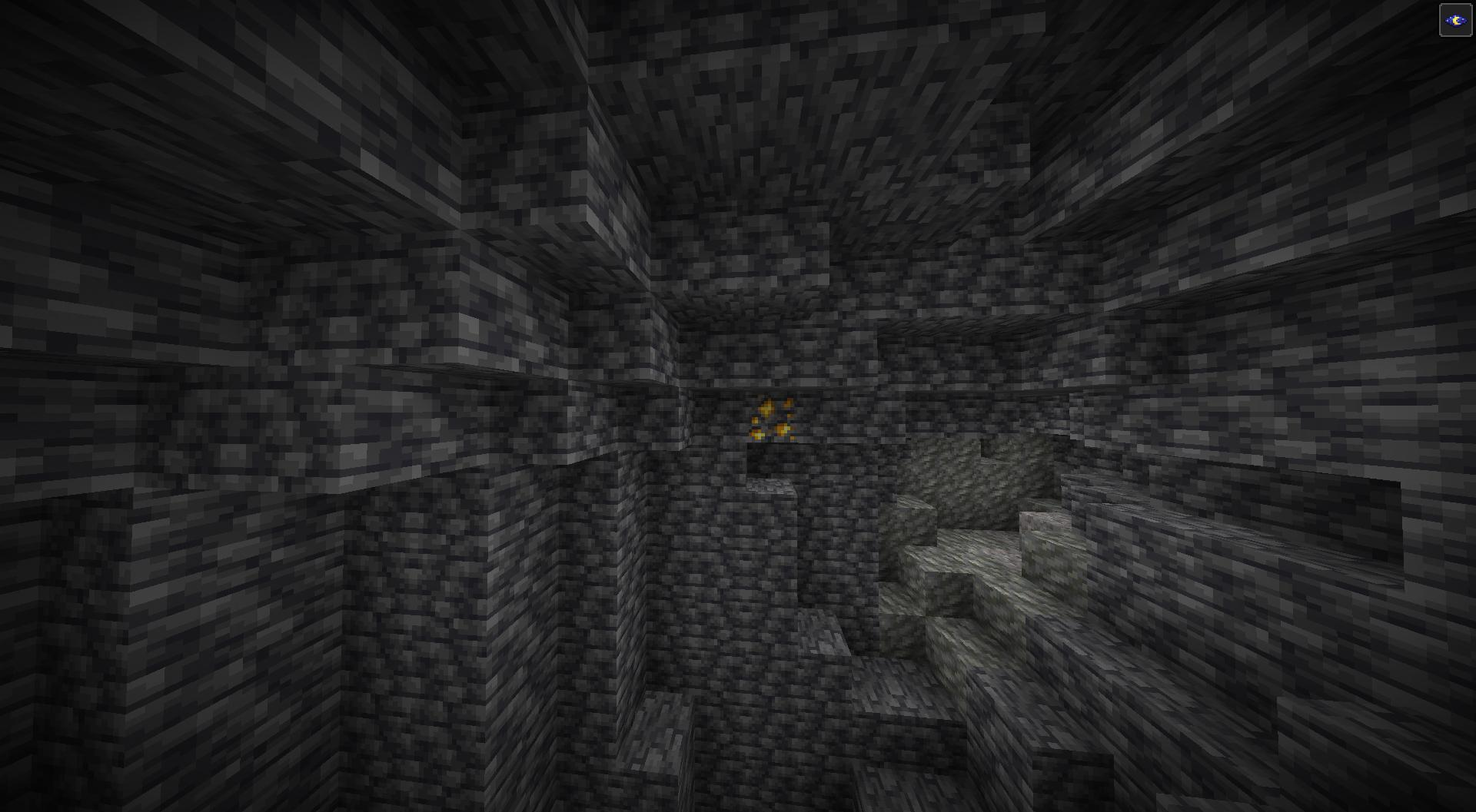gold ore: (745, 392, 800, 446)
